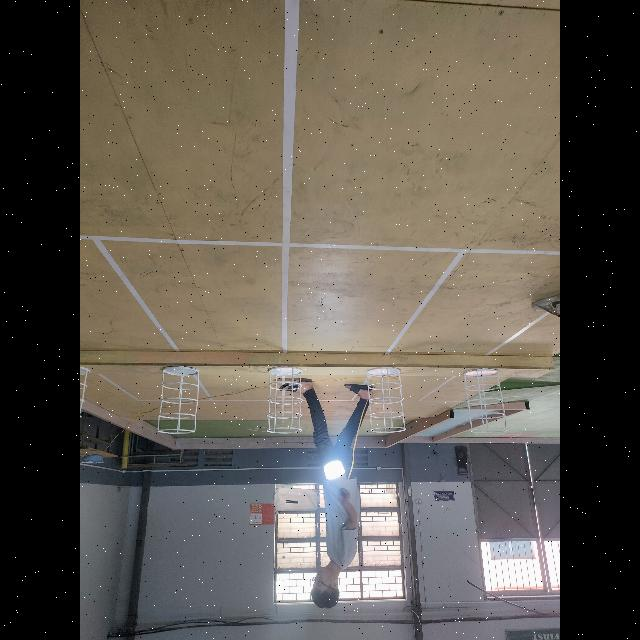S: (155, 365, 201, 435), (366, 366, 407, 434), (266, 365, 304, 435), (80, 364, 92, 423)
